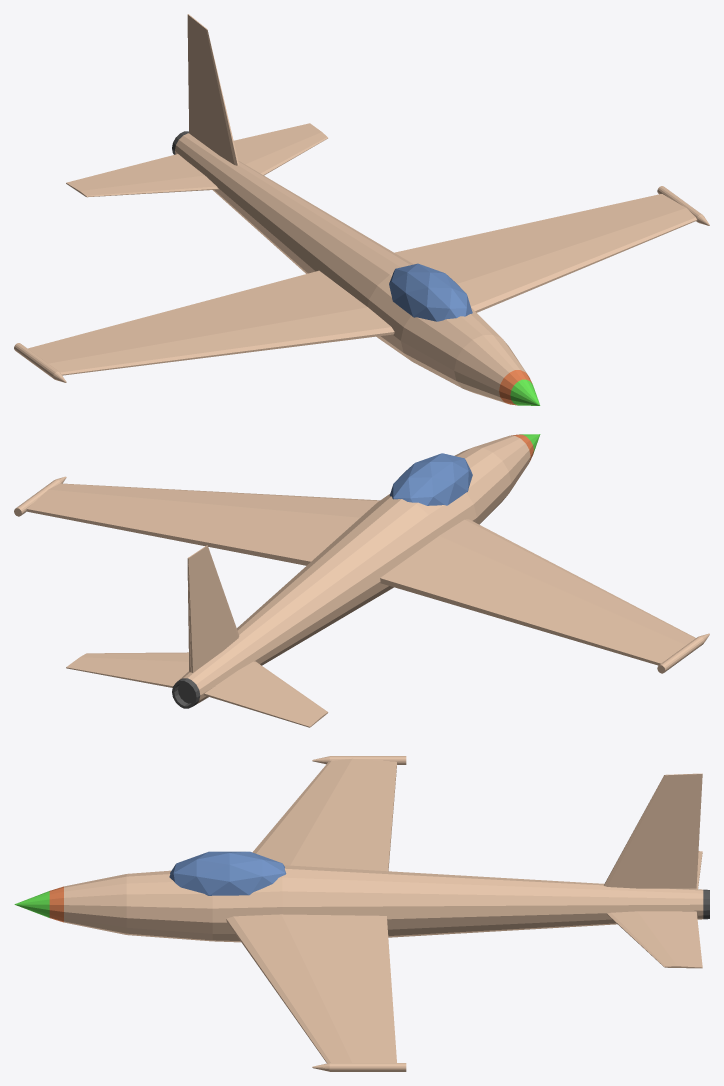
3 renders of one model, top to bottom at view 1: azimuth 30°, elevation 25°; view 2: azimuth 150°, elevation 25°; view 3: azimuth 270°, elevation 25°, orthographic. The views are drawn at different scales.
Visible parts, largest first — view 1: plane; view 2: plane; view 3: plane.
Part boxes in pixels (bbox=[...]): plane: bbox=[14, 14, 709, 405]; plane: bbox=[14, 434, 709, 727]; plane: bbox=[14, 756, 709, 1071].
Bounding box in the file's own units: 20.23 × 5.06 × 19.16.
